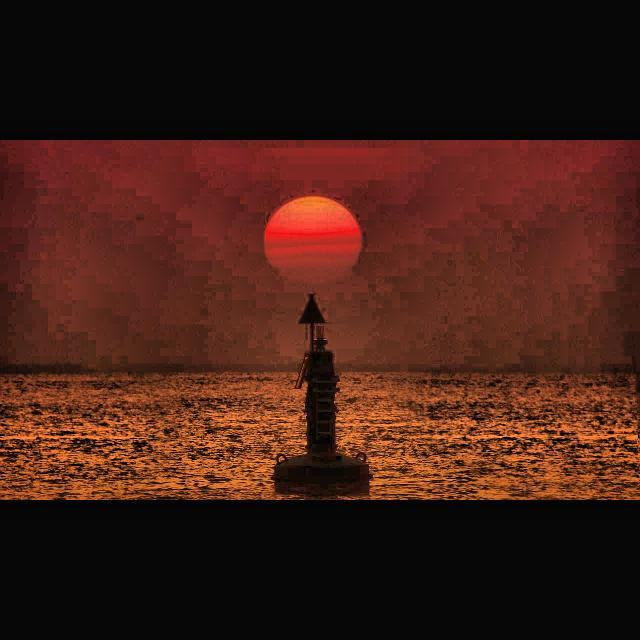buoy: (273, 348, 373, 494)
